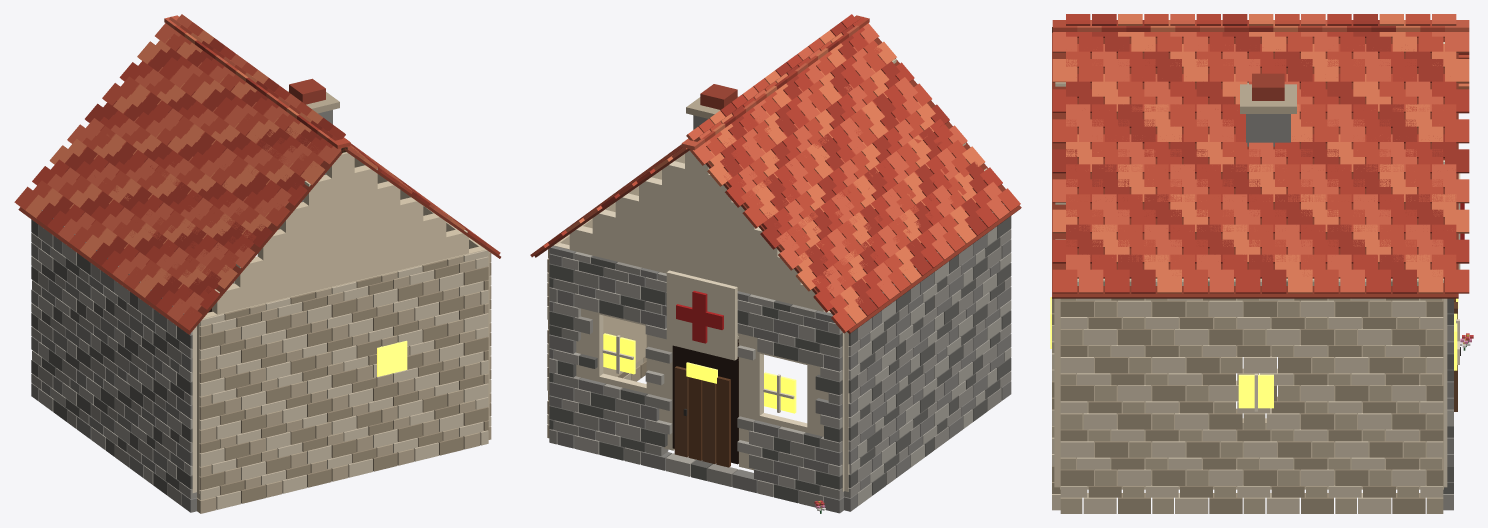
File: vn_building_hospital.glb
The picture shows the model from 3 angles, left to right: view 1: azimuth 30°, elevation 25°; view 2: azimuth 150°, elevation 25°; view 3: azimuth 270°, elevation 25°; orthographic projection. The views are drawn at different scales.
Parts seen in each view (by area): view 1: hospital_stone, hospital_roof, hospital_walls, hospital_wood, hospital_win; view 2: hospital_stone, hospital_roof, hospital_walls, hospital_wood, hospital_win; view 3: hospital_roof, hospital_stone, hospital_walls, hospital_wood, hospital_win.
Part boxes in pixels (bbox=[...]): hospital_stone: bbox=[31, 210, 491, 513]; hospital_roof: bbox=[14, 14, 500, 334]; hospital_walls: bbox=[192, 152, 489, 493]; hospital_wood: bbox=[288, 78, 347, 202]; hospital_win: bbox=[208, 308, 407, 376]; hospital_stone: bbox=[547, 203, 1011, 513]; hospital_roof: bbox=[530, 14, 1021, 334]; hospital_walls: bbox=[549, 59, 987, 491]; hospital_wood: bbox=[674, 84, 738, 467]; hospital_win: bbox=[602, 333, 796, 464]; hospital_roof: bbox=[1052, 14, 1469, 298]; hospital_stone: bbox=[1052, 280, 1453, 513]; hospital_walls: bbox=[1054, 42, 1460, 489]; hospital_wood: bbox=[1052, 27, 1464, 411]; hospital_win: bbox=[1050, 297, 1459, 411].
Bounding box in the file's own units: 5.33 × 5.53 × 5.18.
